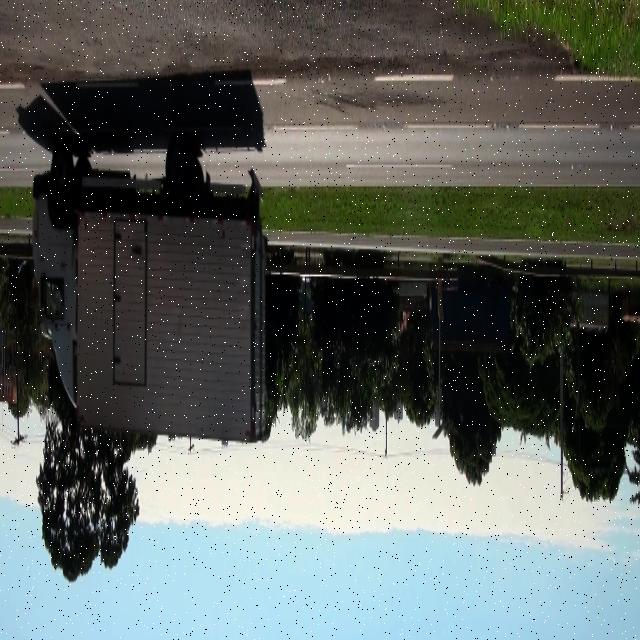-axle: (164, 135, 194, 214), (46, 137, 72, 215)
